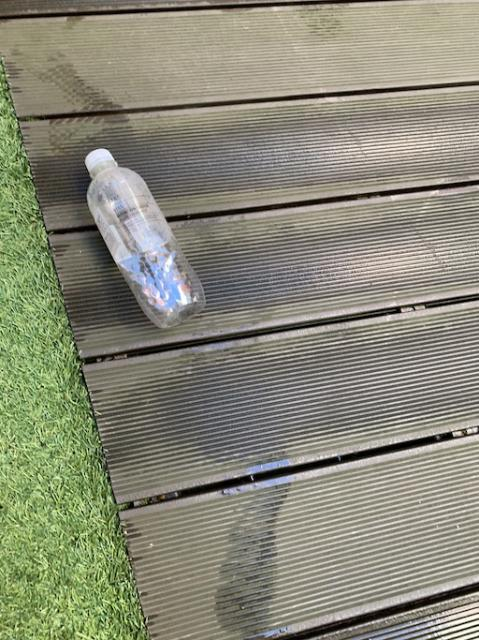plastic: (84, 148, 203, 326)
